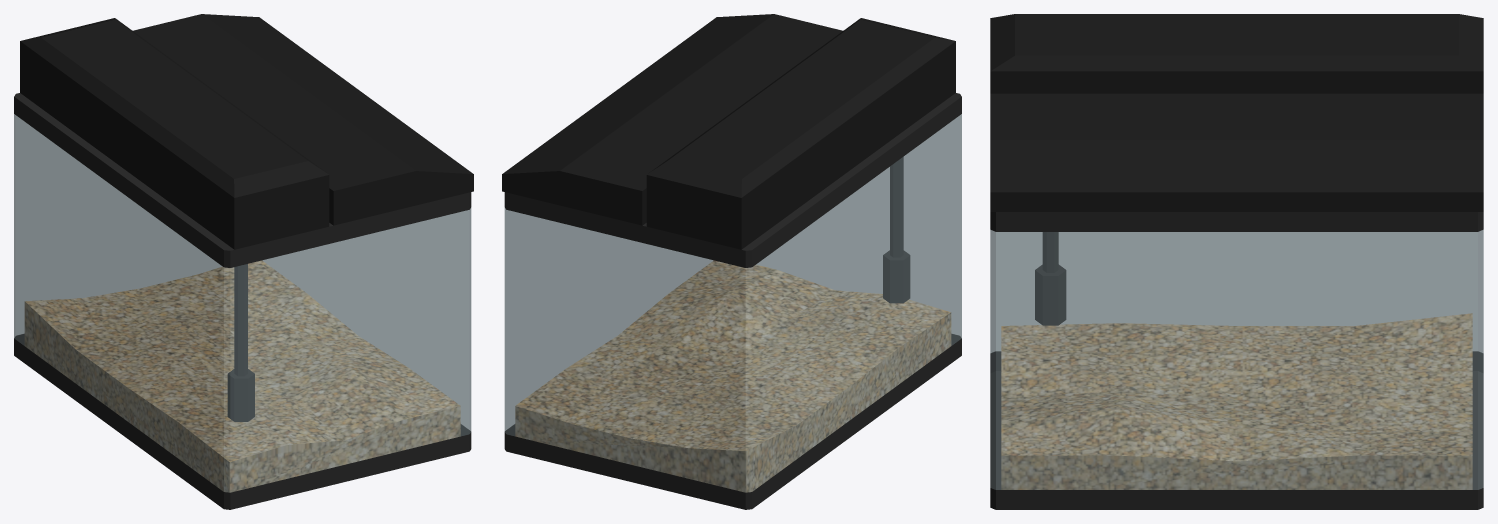
The model's file is aquarium.glb.
3 views of the same model, side by side, from view 1: azimuth 30°, elevation 25°; view 2: azimuth 150°, elevation 25°; view 3: azimuth 270°, elevation 25° (orthographic). The views are drawn at different scales.
Visible parts, largest first — view 1: Cube, Cube.001, Gravel, Cylinder; view 2: Cube, Cube.001, Gravel, Cylinder; view 3: Cube, Cube.001, Gravel, Cylinder.
Boxes of the visible parts, x1,y1,x2,y2 form: Cube: (14, 93, 471, 509); Cube.001: (20, 14, 473, 249); Gravel: (24, 260, 460, 492); Cylinder: (227, 264, 254, 421); Cube: (504, 93, 961, 509); Cube.001: (502, 14, 955, 249); Gravel: (515, 260, 951, 492); Cylinder: (883, 157, 910, 303); Cube: (990, 212, 1483, 509); Cube.001: (990, 14, 1483, 211); Gravel: (1001, 313, 1472, 489); Cylinder: (1035, 232, 1066, 325).
Size of the model in its own units: 0.3 by 0.37 by 0.45.
